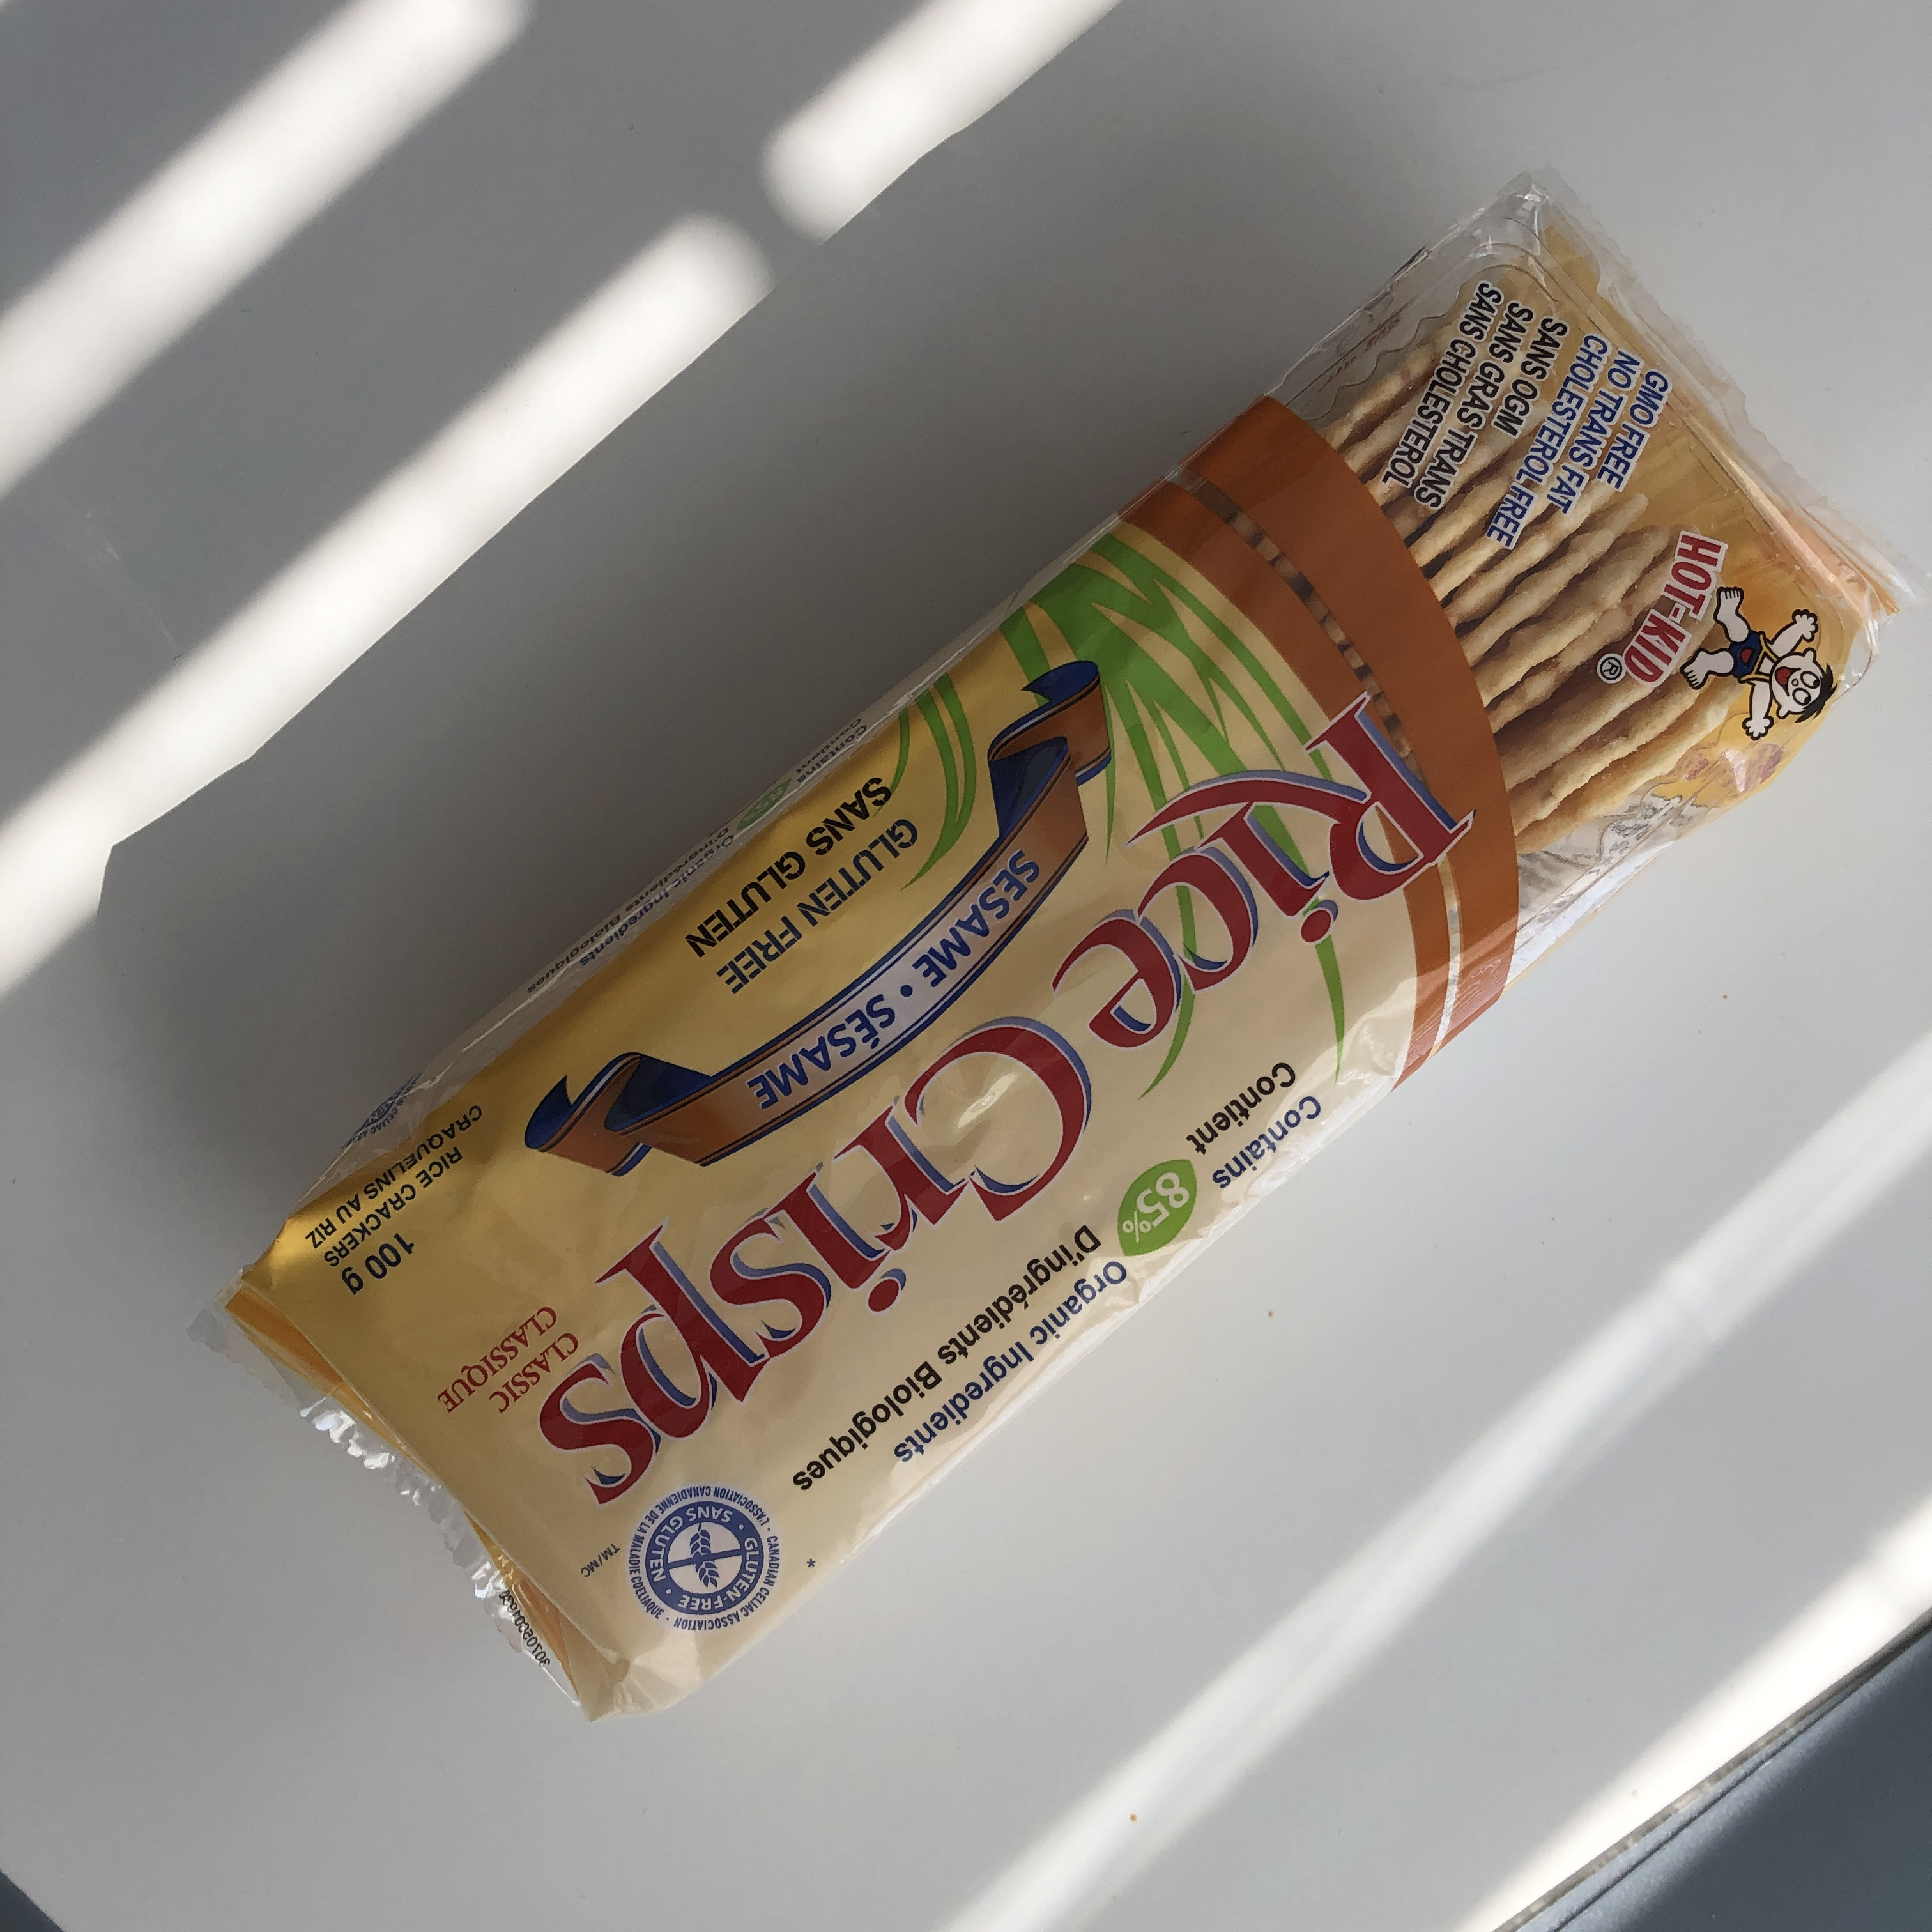hot_kid_rice_crisps_sesame: (268, 51, 1680, 1641)
